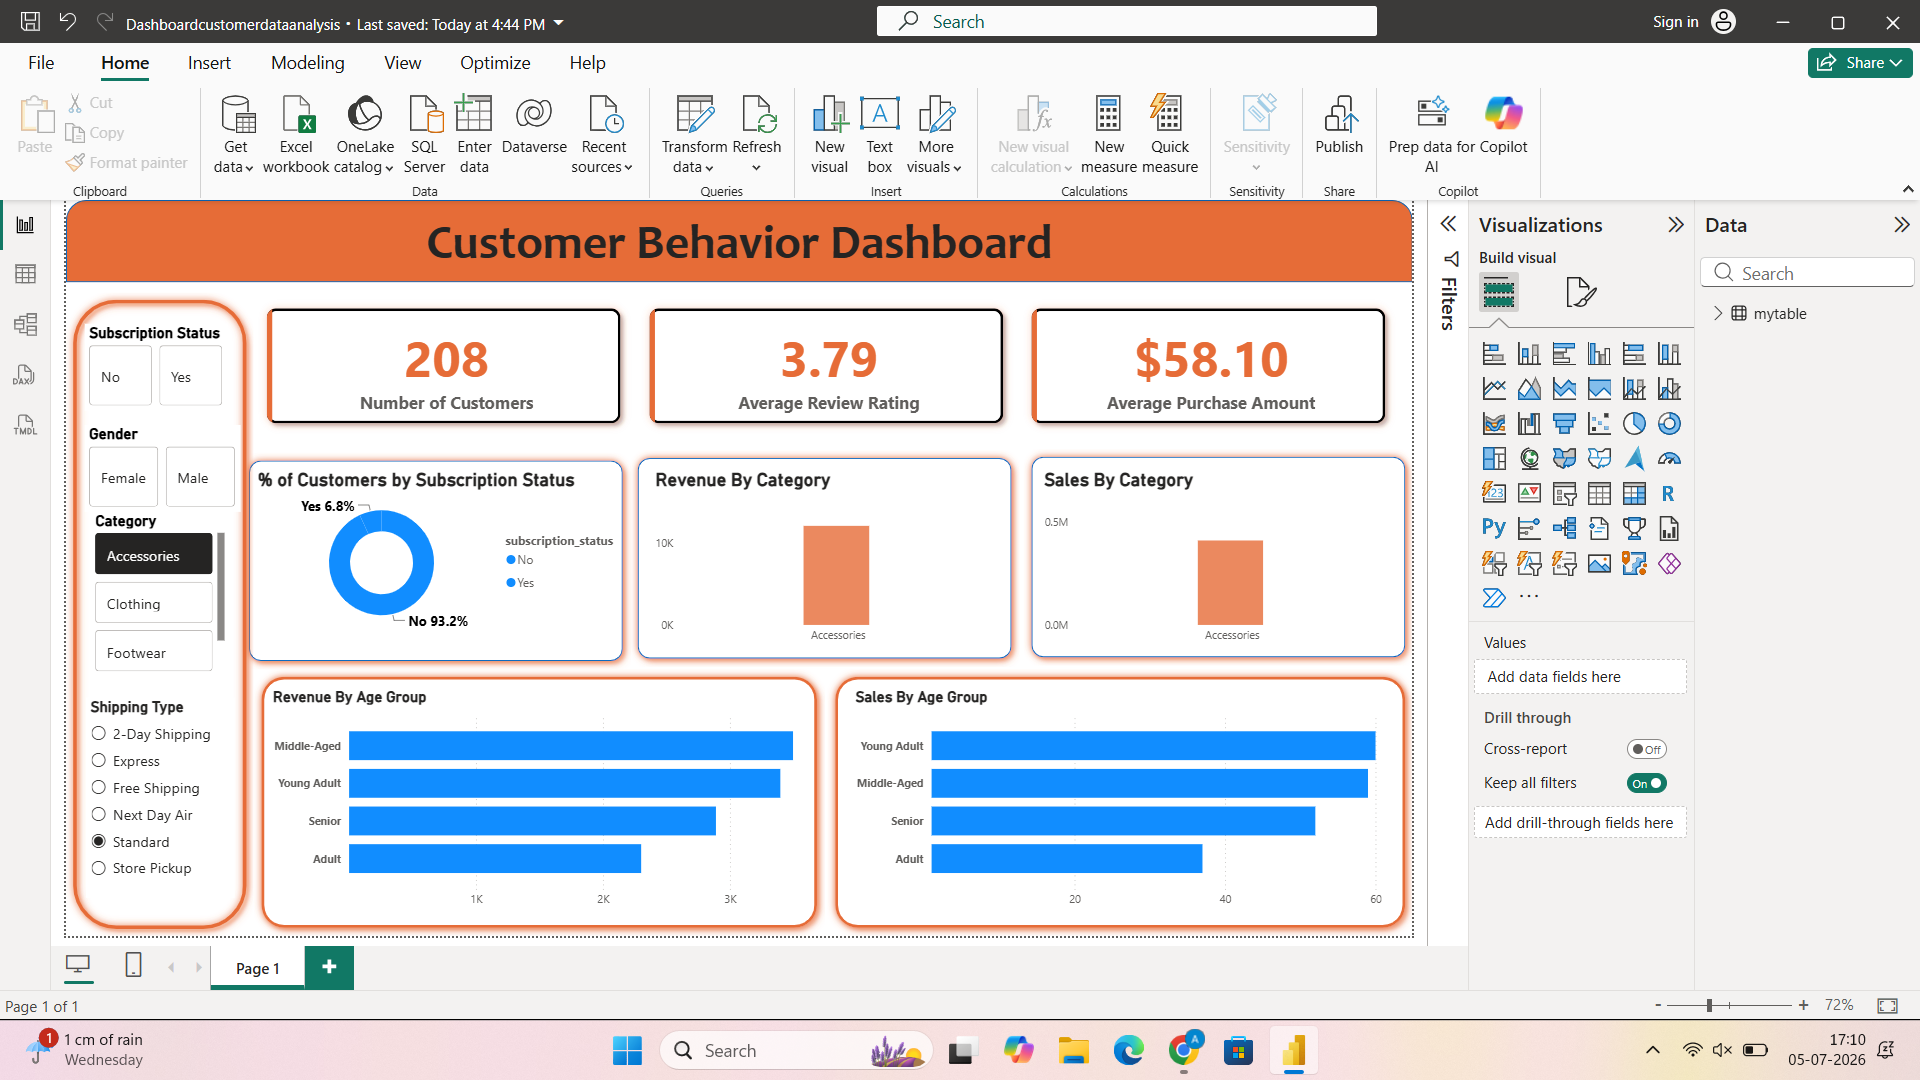

The dashboard page shown, as its layout file describes it:
{"tool":"powerbi","page":{"name":"Page 1","canvas":[1500,820],"ordinal":0},"visuals":[{"type":"cardVisual","fields":{"Data":["mytable.Number of Customers","mytable.Average Review Rating","mytable.Average Purchase Amount"]},"box":[194.6,91.7,1305.8,186.5],"z":0},{"type":"shape","box":[0,0,1500.3,91.7],"z":1000},{"type":"textbox","box":[0,9.6,1500.3,75.6],"z":2000},{"type":"shape","box":[628.8,278.2,434.2,241.2],"z":3000},{"type":"shape","box":[1066.1,276.6,434.2,241.2],"z":4000},{"type":"shape","box":[194.6,281.4,434.2,241.2],"z":5000},{"type":"group","id":"g1","title":"Group 1","box":[209,299.1,419.7,186.5],"z":6000},{"type":"donutChart","title":"% of Customers by Subscription Status","fields":{"Category":["mytable.subscription_status"],"Y":["Sum(mytable.customer_id)"]},"box":[209,299.1,419.7,186.5],"z":7000,"group":"g1"},{"type":"clusteredColumnChart","title":"Revenue By Category","fields":{"Y":["Sum(mytable.purchase_amount_usd)"],"Category":["mytable.category"]},"box":[651.3,299.1,387.5,204.2],"z":7000},{"type":"clusteredColumnChart","title":"Sales  By Category","fields":{"Y":["Sum(mytable.customer_id)"],"Category":["mytable.category"]},"box":[1085.4,299.1,392.4,204.2],"z":8000},{"type":"shape","box":[0,102.9,209,717.2],"z":9000},{"type":"advancedSlicerVisual","title":"Subscription Status","fields":{"Values":["mytable.subscription_status"]},"box":[20.9,138.3,159.2,96.5],"z":10000},{"type":"advancedSlicerVisual","title":"Gender","fields":{"Values":["mytable.gender"]},"box":[20.9,250.9,173.7,96.5],"z":11000},{"type":"advancedSlicerVisual","title":"Category","fields":{"Values":["mytable.category"]},"box":[27.3,347.3,154.4,184.9],"z":12000},{"type":"listSlicer","title":"Shipping Type","fields":{"Values":["mytable.shipping_type"]},"box":[22.5,554.8,165.6,223.5],"z":13000},{"type":"shape","box":[209,522.6,636.8,297.5],"z":14000},{"type":"clusteredBarChart","title":"Revenue By Age Group","fields":{"Y":["Sum(mytable.purchase_amount_usd)"],"Category":["mytable.age_group"]},"box":[225.1,543.5,596.6,254.1],"z":15000},{"type":"shape","box":[847.5,522.6,652.9,297.5],"z":16000},{"type":"clusteredBarChart","title":"Sales By Age Group","fields":{"Y":["CountNonNull(mytable.customer_id)"],"Category":["mytable.age_group"]},"box":[874.8,543.5,596.6,254.1],"z":16001}]}

Visuals, with their boxes on the page's 1500x820 design canvas (x1, y1, x2, y2). These are canvas units, not pixel positions in the 1920x1080 screenshot, which may show the page scaled, cropped or inside an application window:
cardVisual - mytable.Number of Customers x mytable.Average Review Rating: <region>195, 92, 1500, 278</region>
shape: <region>0, 0, 1500, 92</region>
textbox: <region>0, 10, 1500, 85</region>
shape: <region>629, 278, 1063, 519</region>
shape: <region>1066, 277, 1500, 518</region>
shape: <region>195, 281, 629, 523</region>
"Group 1" group: <region>209, 299, 629, 486</region>
"% of Customers by Subscription Status" donutChart: <region>209, 299, 629, 486</region>
"Revenue By Category" clusteredColumnChart: <region>651, 299, 1039, 503</region>
"Sales  By Category" clusteredColumnChart: <region>1085, 299, 1478, 503</region>
shape: <region>0, 103, 209, 820</region>
"Subscription Status" advancedSlicerVisual: <region>21, 138, 180, 235</region>
"Gender" advancedSlicerVisual: <region>21, 251, 195, 347</region>
"Category" advancedSlicerVisual: <region>27, 347, 182, 532</region>
"Shipping Type" listSlicer: <region>22, 555, 188, 778</region>
shape: <region>209, 523, 846, 820</region>
"Revenue By Age Group" clusteredBarChart: <region>225, 544, 822, 798</region>
shape: <region>848, 523, 1500, 820</region>
"Sales By Age Group" clusteredBarChart: <region>875, 544, 1471, 798</region>
